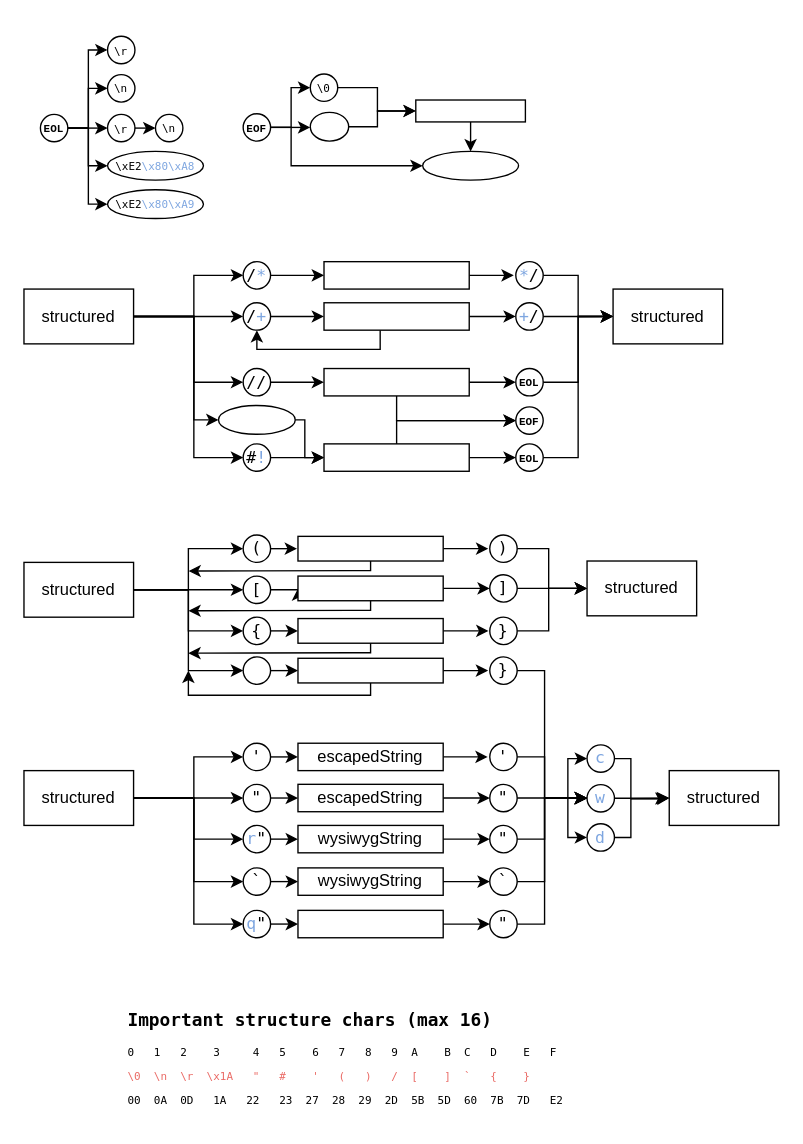
The diagram is 803 pixels wide and 1144 high, and some of its shapes have lost their labels. Here are the shapes that lost their labels. From the top down, the centre of each, then its label:
the point at 329,126: \x1A
the point at 469,110: unstructured
the point at 470,165: physical EOF
the point at 396,274: cComment
the point at 396,315: nestedComment
the point at 396,381: slashComment
the point at 256,419: #line\x20
the point at 396,457: shebang/setLine
the point at 370,548: structured(args)
the point at 370,588: structured(index)
the point at 370,630: structured(block)
the point at 256,670: q {
the point at 370,670: structured(string)
the point at 370,923: quotedString
